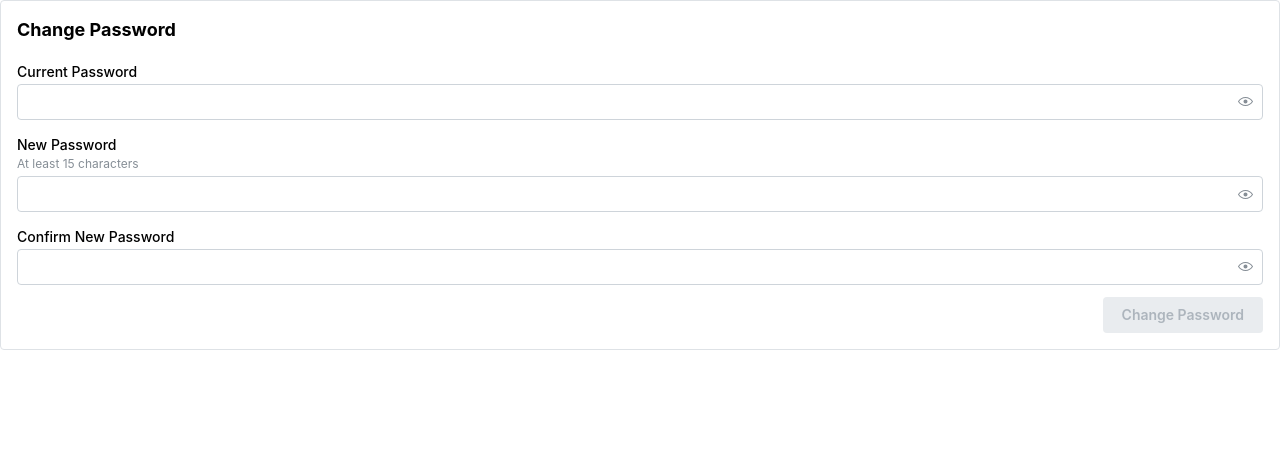
Scenario: PasswordSection › reports mismatch before length — fails on "do not match" when both are wrong
In the password field labelled "Current Password": (640, 102) [18,85,1262,119], type "current-password-long-enough"
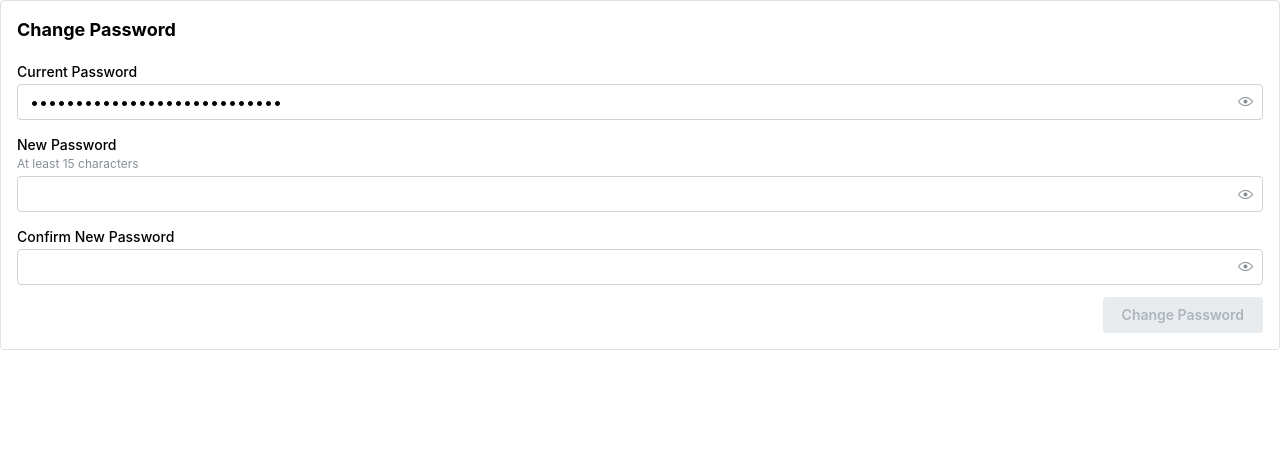
In the password field labelled "New Password": (640, 194) [18,177,1262,211], type "short"
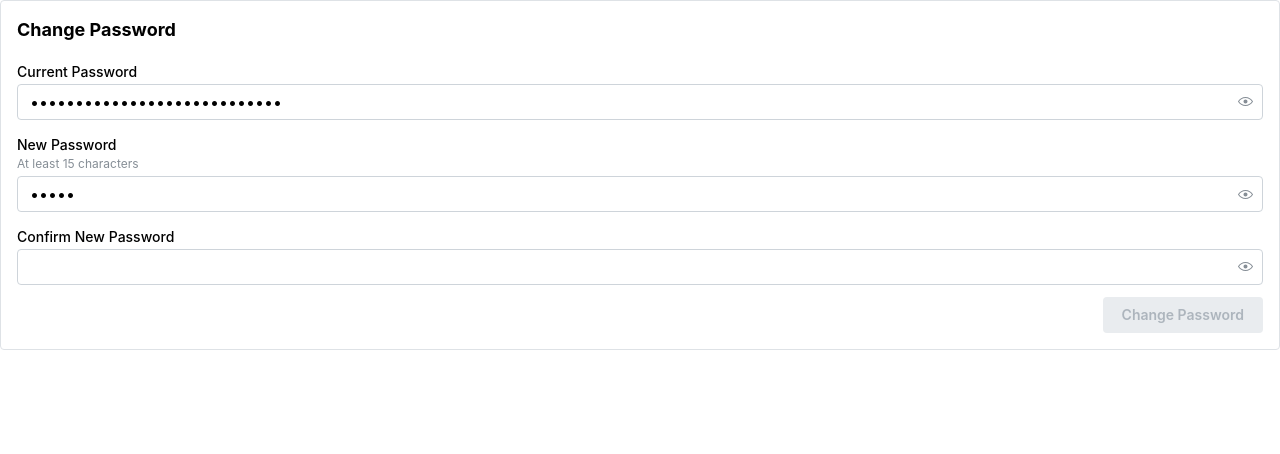
In the password field labelled "Confirm New Password": (640, 267) [18,250,1262,284], type "different"
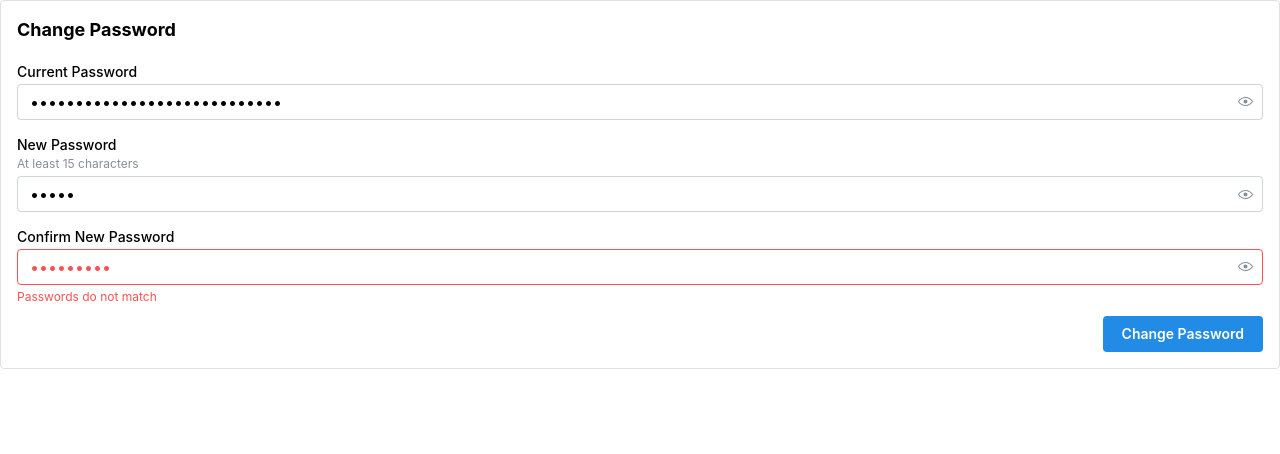
Click the button "Change Password": click(1183, 334) [1103,316,1263,352]
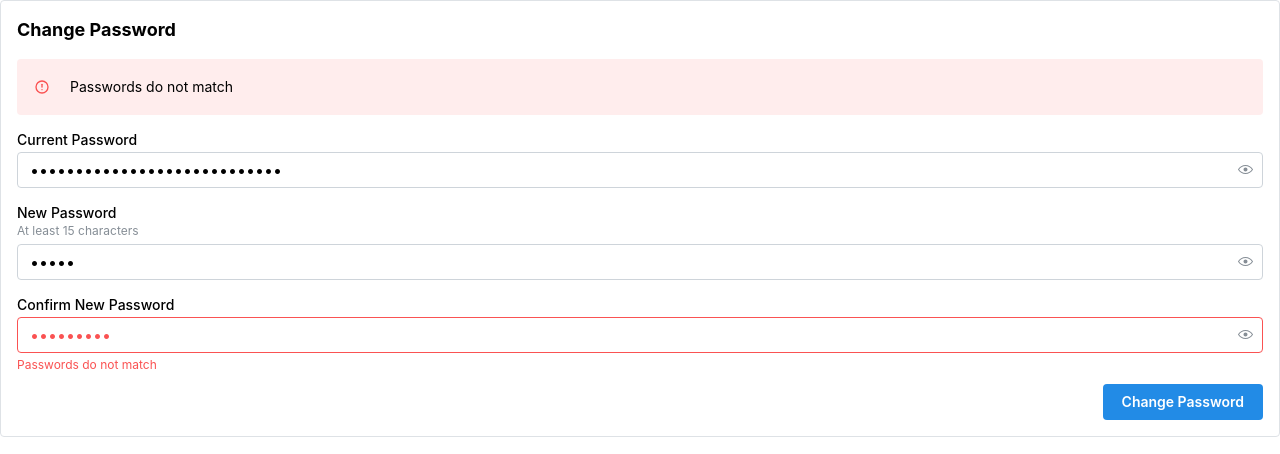
Check: the message reads "Passwords do not match", box [70,78,233,95]
